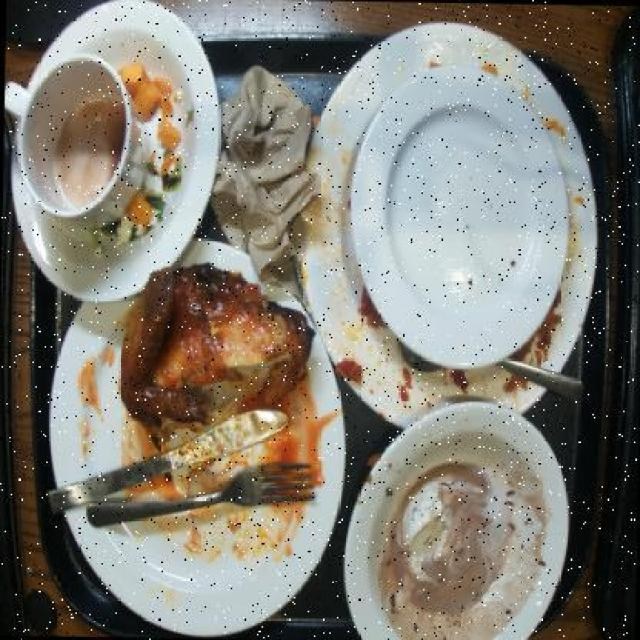Anorganik: (279, 13, 610, 441), (35, 227, 356, 640), (340, 62, 576, 374), (0, 0, 227, 318), (331, 392, 574, 640), (39, 412, 319, 527), (503, 361, 585, 402)
Organik: (112, 256, 318, 459)
